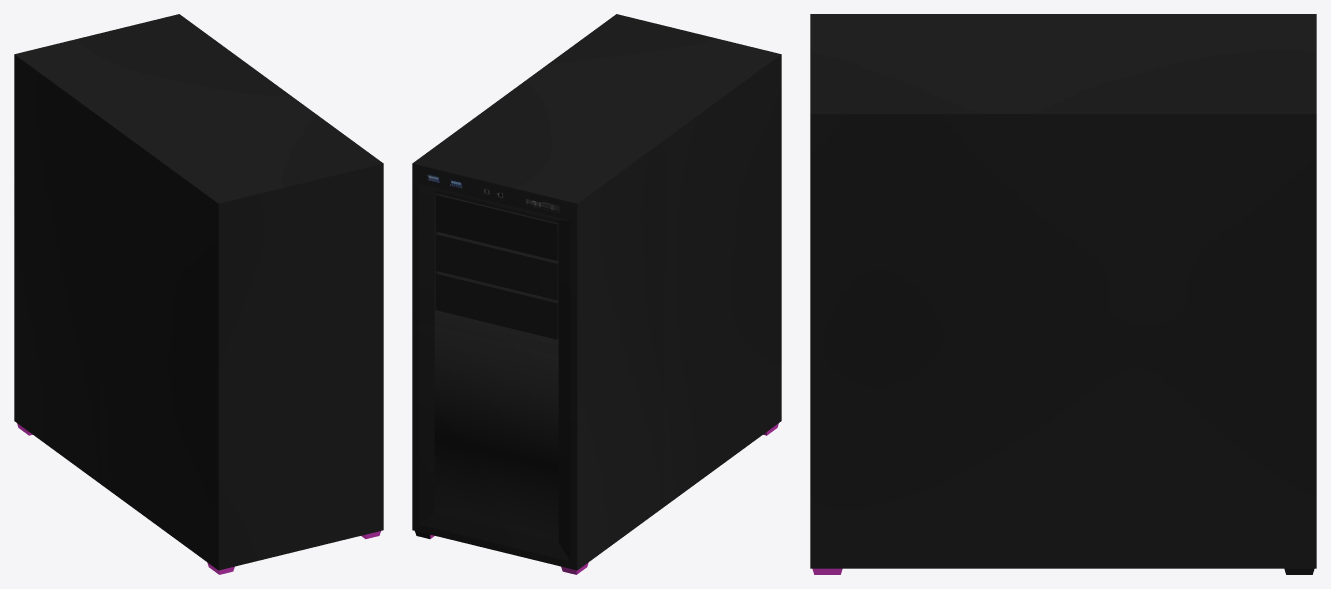
The picture shows the model from 3 angles, left to right: view 1: azimuth 30°, elevation 25°; view 2: azimuth 150°, elevation 25°; view 3: azimuth 270°, elevation 25°; orthographic projection. The views are drawn at different scales.
Visible parts, largest first — view 1: Box002; view 2: Box002; view 3: Box002.
Boxes of the visible parts, x1,y1,x2,y2 form: Box002: (14,14,383,574); Box002: (412,14,781,574); Box002: (810,14,1316,574).
Size of the model in its own units: 7 by 15.11 by 15.
3 materials, 1 textured.
